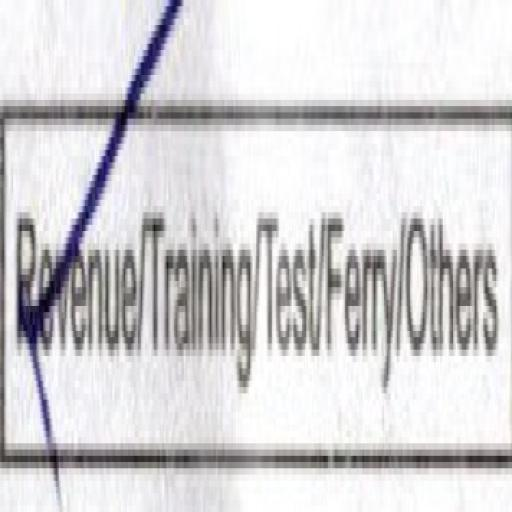check: (0, 2, 142, 512)
